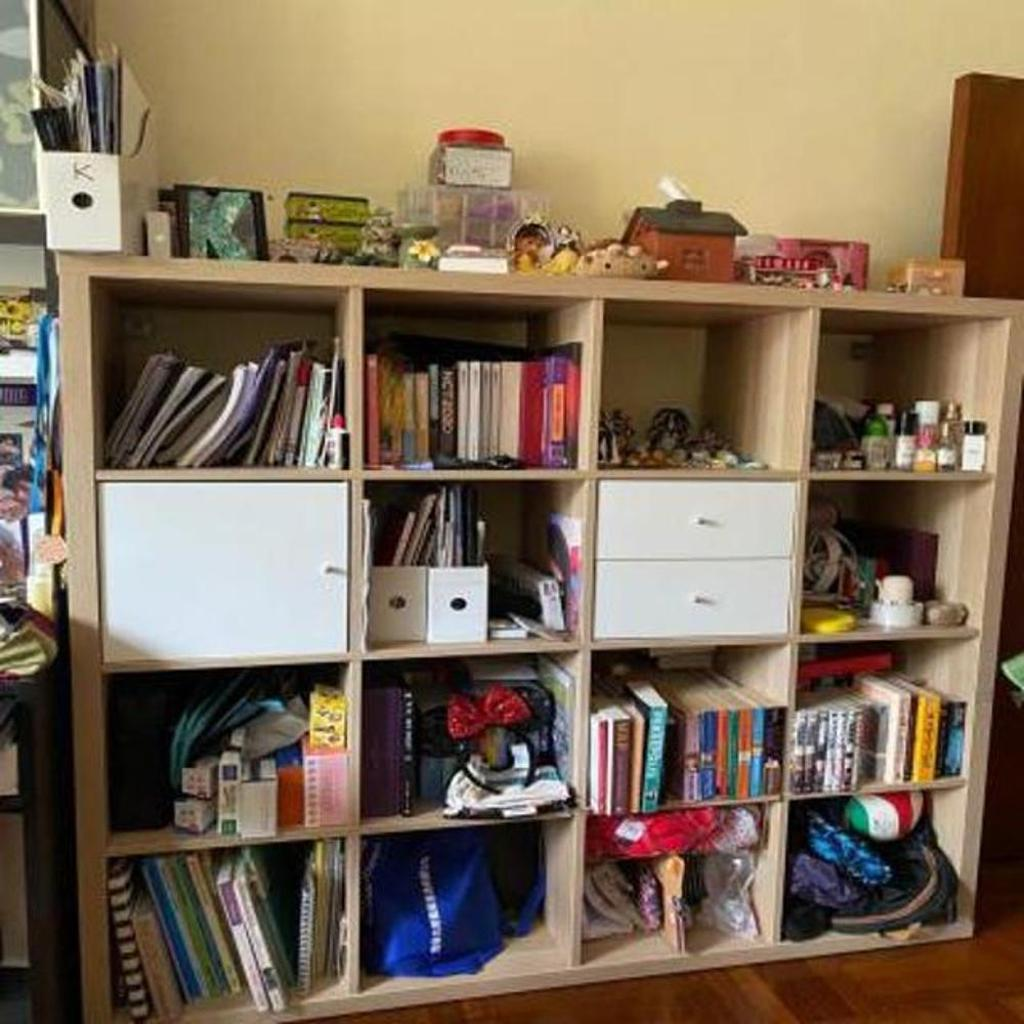lamp: (46, 245, 1023, 1023)
